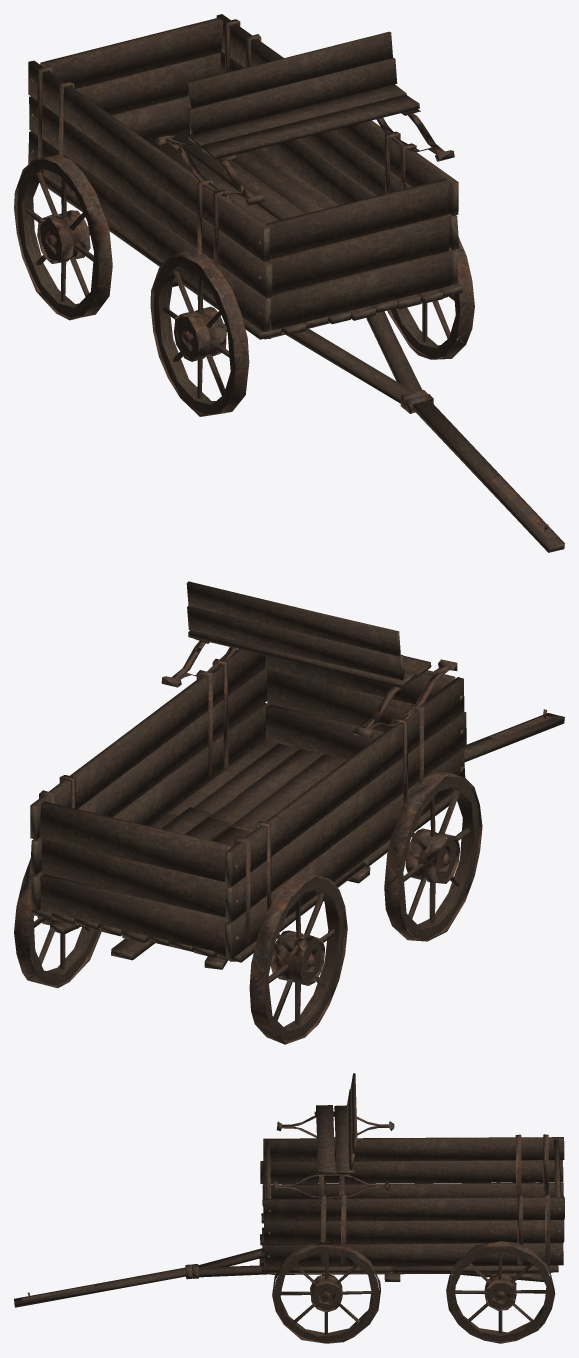
Rendered from cart.fbx.
The picture shows the model from 3 angles, top to bottom: view 1: azimuth 30°, elevation 25°; view 2: azimuth 150°, elevation 25°; view 3: azimuth 270°, elevation 25°; orthographic projection. The views are drawn at different scales.
Parts seen in each view (by area): view 1: SM_Cart; view 2: SM_Cart; view 3: SM_Cart.
Boxes of the visible parts, x1,y1,x2,y2 form: SM_Cart: (14, 14, 564, 552); SM_Cart: (14, 581, 564, 1044); SM_Cart: (14, 1073, 564, 1343).
Size of the model in its own units: 15.59 by 17.74 by 44.09.
